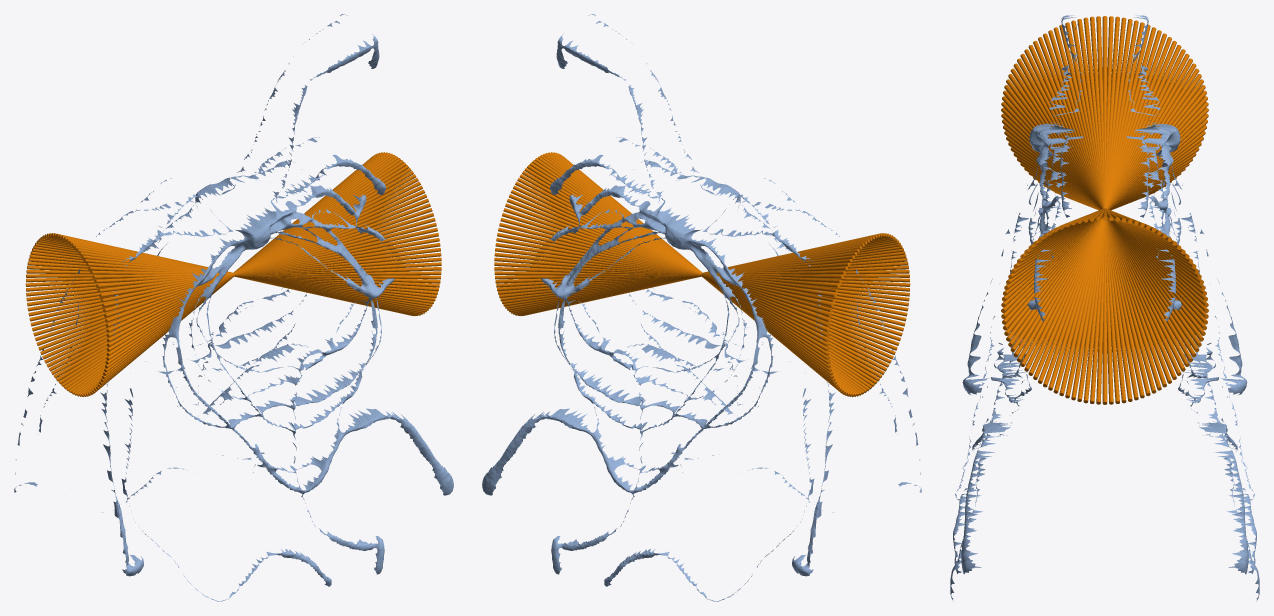
The model's file is A20023528_6145-37-528-7087_DigitalTwin.glb.
3 views of the same model, side by side, from view 1: azimuth 30°, elevation 25°; view 2: azimuth 150°, elevation 25°; view 3: azimuth 270°, elevation 25° (orthographic). The views are drawn at different scales.
Visible parts, largest first — view 1: world; view 2: world; view 3: world.
Boxes of the visible parts, x1,y1,x2,y2 form: world: (14, 14, 453, 601); world: (482, 14, 921, 601); world: (950, 15, 1259, 601).
Size of the model in its own units: 424 by 602 by 275.
